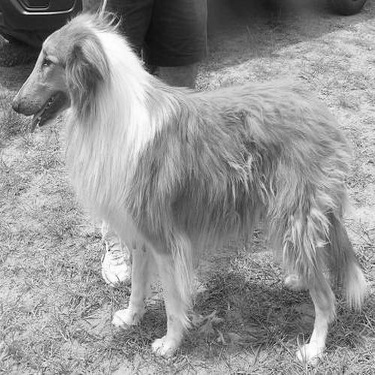dog: (9, 7, 369, 366)
